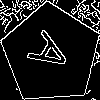A: (26, 29, 81, 83)
